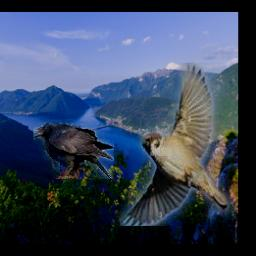Crow: (33, 123, 114, 179)
Sparrow: (119, 63, 230, 226)
